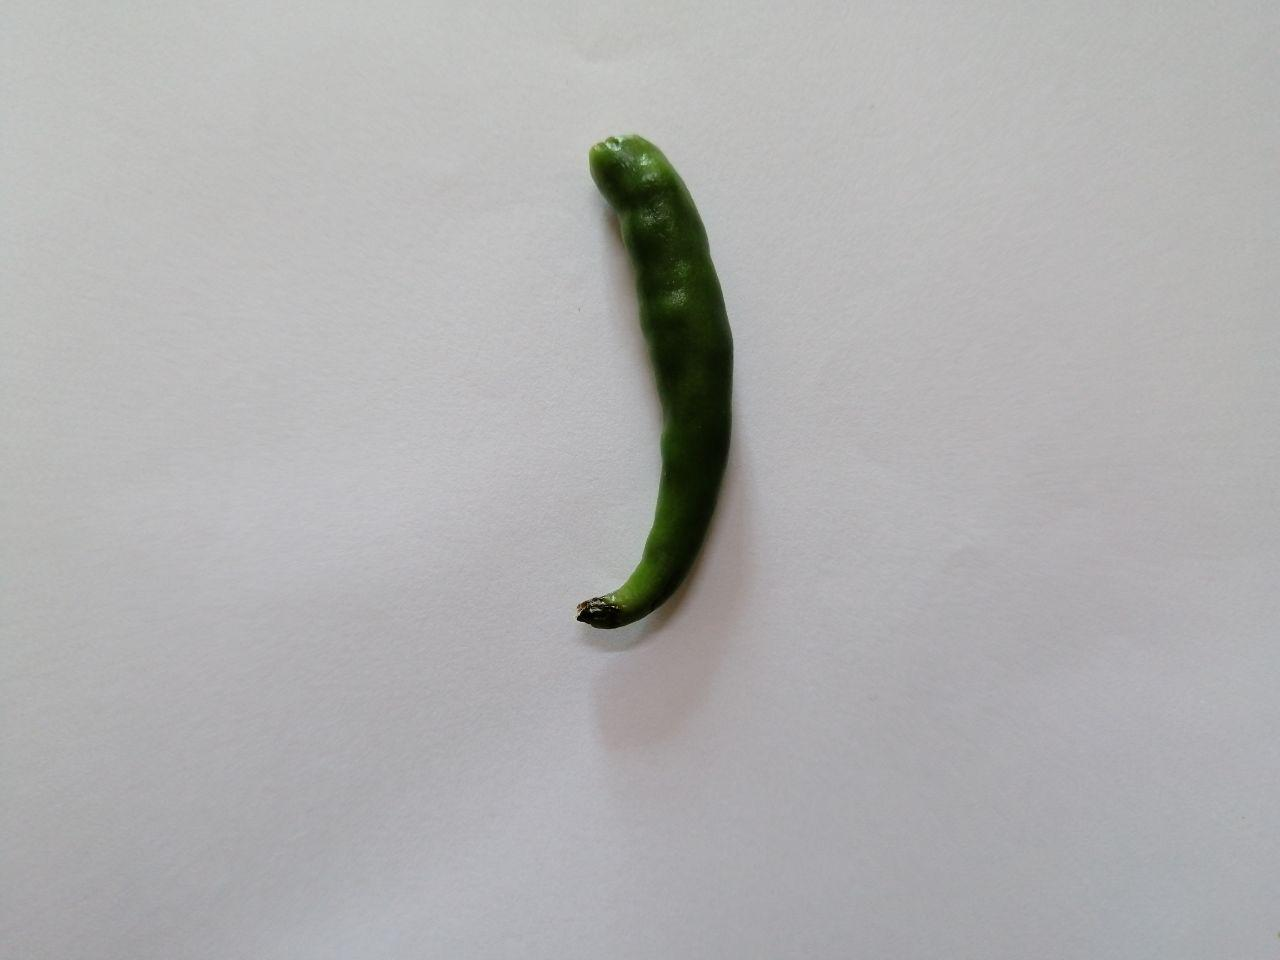lada hijau: (546, 122, 747, 643)
